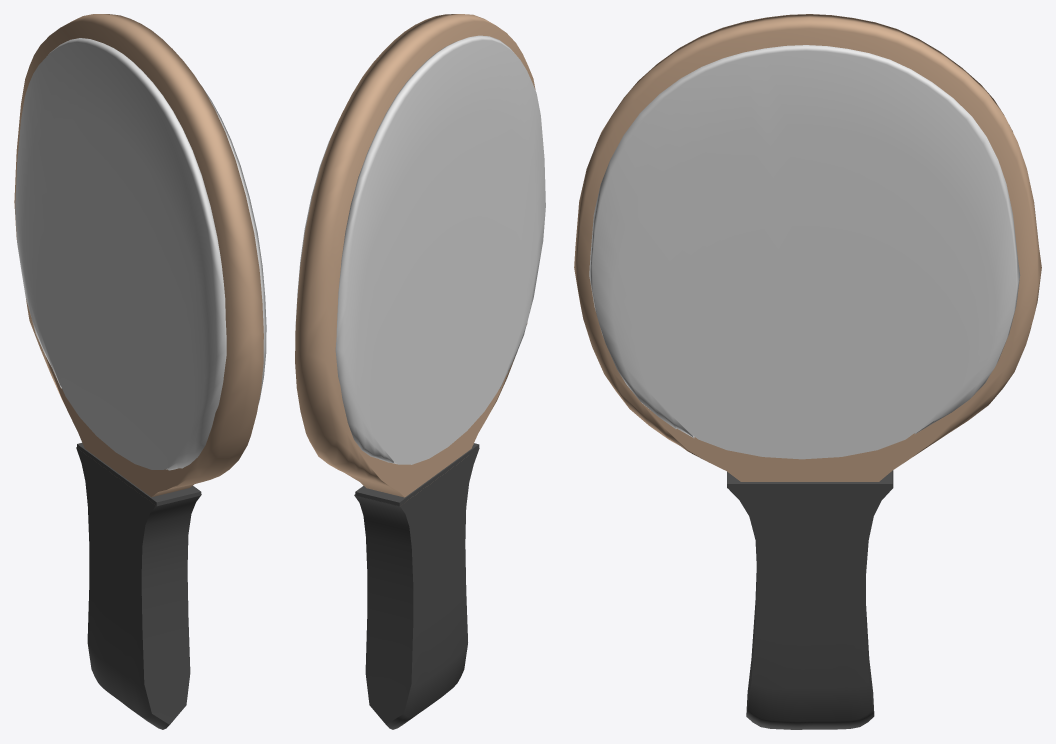
Rendered from Double-White-Paddle.fbx.
3 renders of one model, left to right at view 1: azimuth 30°, elevation 25°; view 2: azimuth 150°, elevation 25°; view 3: azimuth 270°, elevation 25°, orthographic. The views are drawn at different scales.
Parts seen in each view (by area): view 1: polySurface9; view 2: polySurface9; view 3: polySurface9.
Part boxes in pixels (bbox=[...]): polySurface9: bbox=[14, 14, 266, 729]; polySurface9: bbox=[295, 14, 545, 729]; polySurface9: bbox=[574, 14, 1041, 729].
Bounding box in the file's own units: 0.704 × 8.86 × 5.28.
